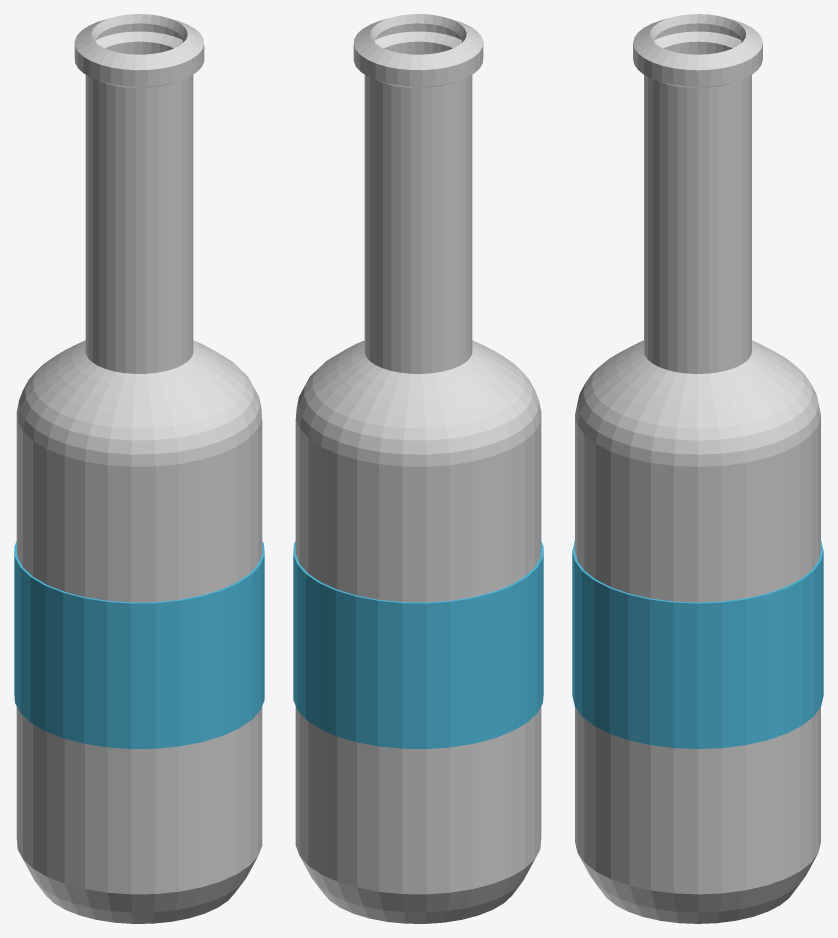
The model's file is Botella.fbx.
The picture shows the model from 3 angles, left to right: view 1: azimuth 30°, elevation 25°; view 2: azimuth 150°, elevation 25°; view 3: azimuth 270°, elevation 25°; orthographic projection.
Visible parts, largest first — view 1: Botella, Etiqueta; view 2: Botella, Etiqueta; view 3: Botella, Etiqueta.
Part boxes in pixels (x1,y1,x2,y2): Botella: [16, 14, 262, 923]; Etiqueta: [14, 541, 264, 748]; Botella: [295, 14, 541, 923]; Etiqueta: [293, 541, 543, 748]; Botella: [575, 14, 820, 923]; Etiqueta: [572, 540, 823, 748].
Size of the model in its own units: 0.265 by 0.9873 by 0.265.
